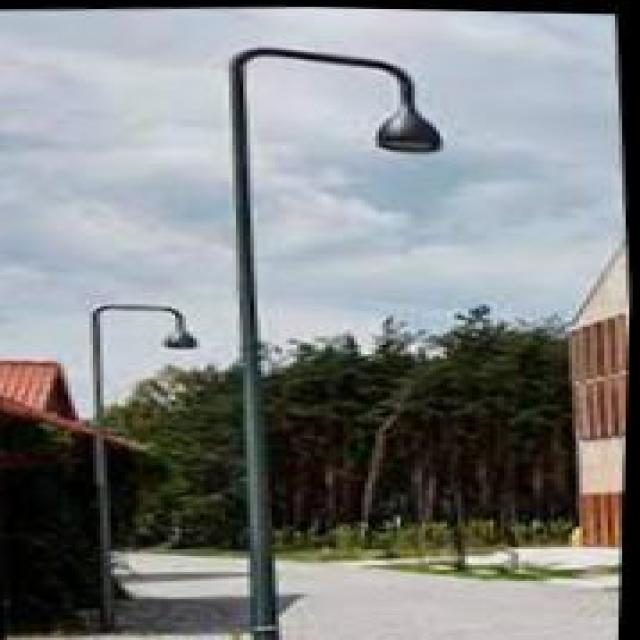pole: (215, 188, 318, 640)
